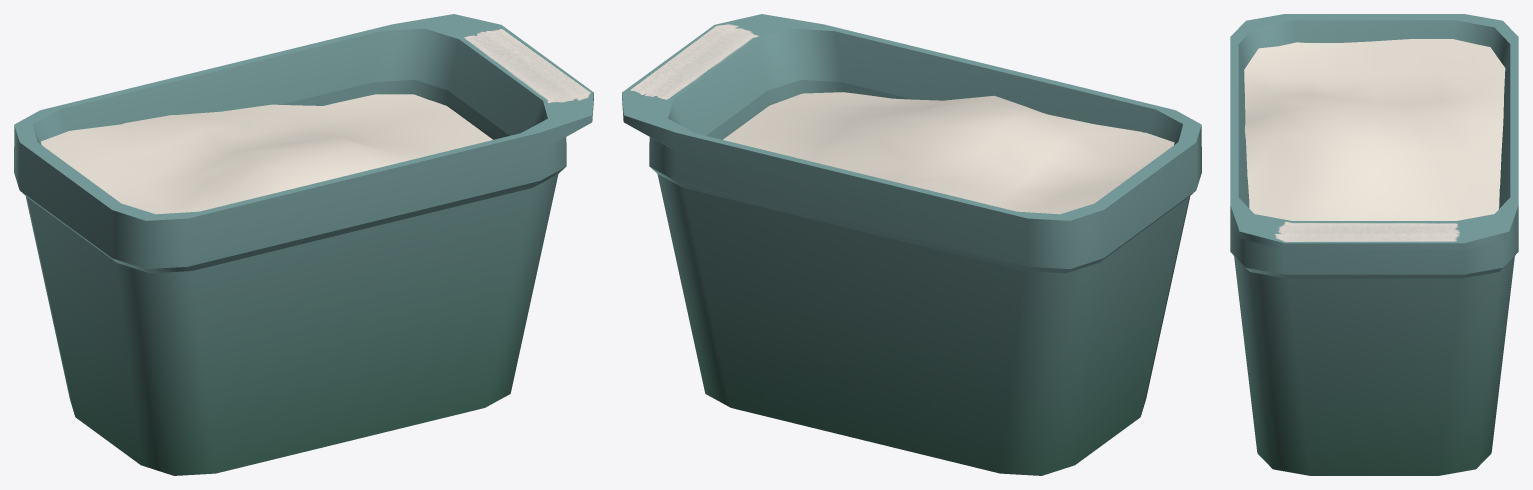
File: Ice-cream-tub (3).fbx
3 views of the same model, side by side, from view 1: azimuth 30°, elevation 25°; view 2: azimuth 150°, elevation 25°; view 3: azimuth 270°, elevation 25° (orthographic). The views are drawn at different scales.
Visible parts, largest first — view 1: Bucket, Icecream; view 2: Bucket, Icecream; view 3: Bucket, Icecream.
Boxes of the visible parts, box(x1,y1,x2,y2) form: Bucket: box(14, 14, 593, 475); Icecream: box(41, 94, 492, 214); Bucket: box(622, 14, 1201, 475); Icecream: box(723, 92, 1174, 214); Bucket: box(1230, 14, 1518, 475); Icecream: box(1244, 39, 1505, 220).
Size of the model in its own units: 56.08 by 30.63 by 29.83.
